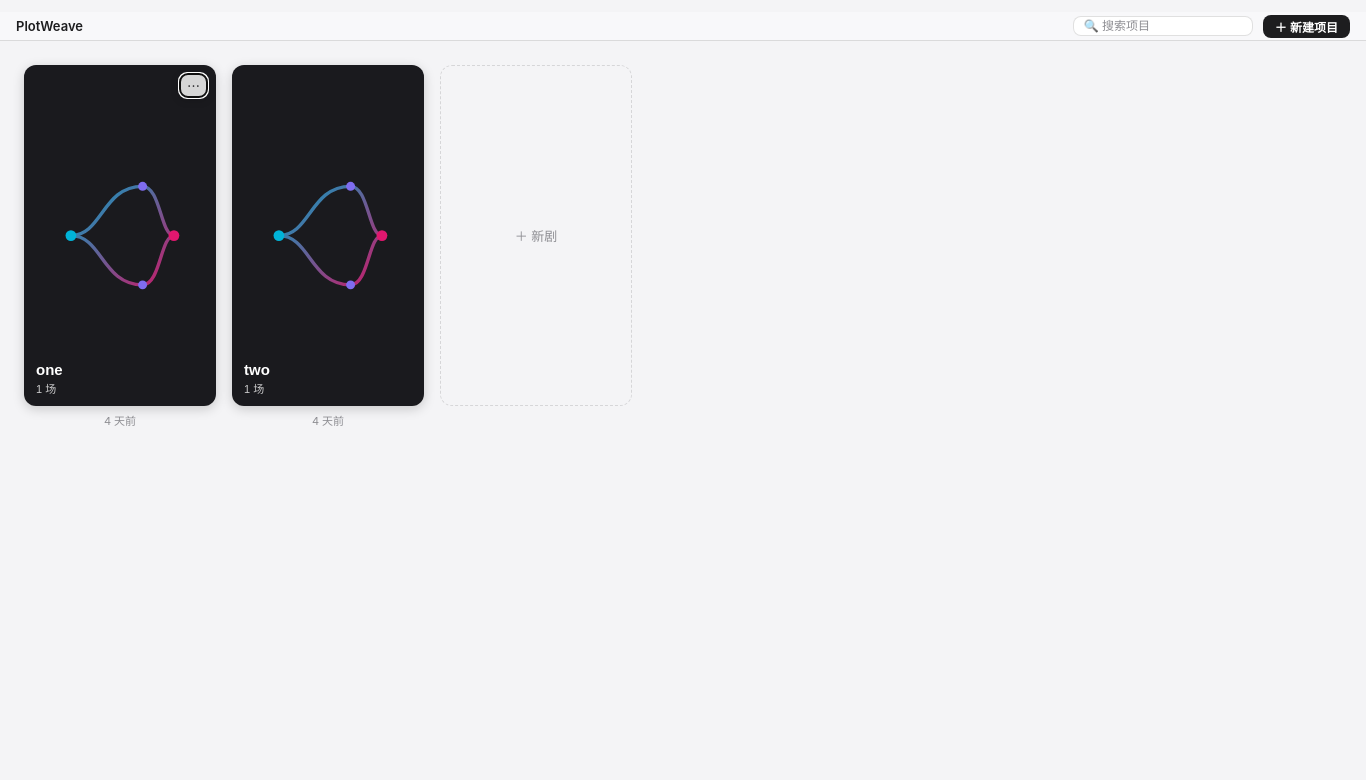
Test: pointer contextmenu preserves coordinates and focus
Right-click the button with aria-label "打开项目 one" at (120, 236), box [24,65,216,406]
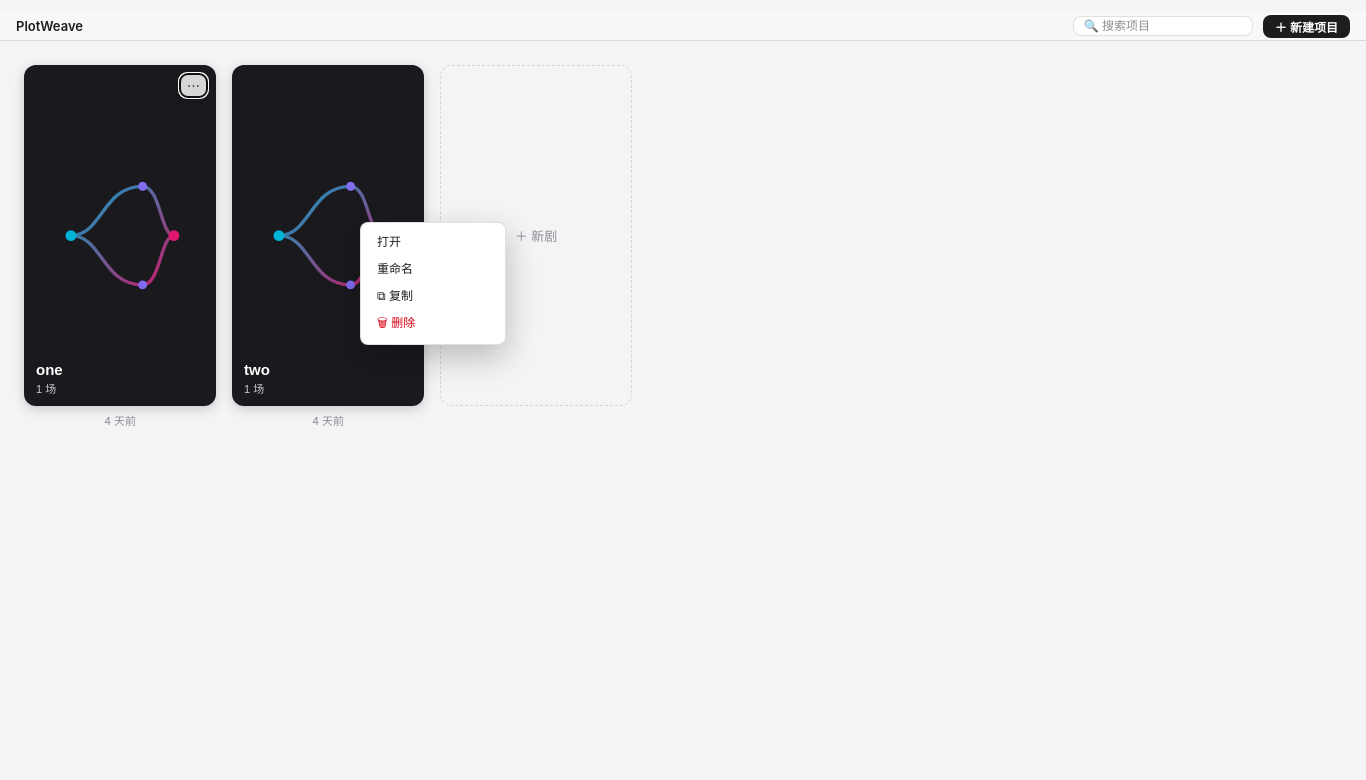
Press the mouse on the element that starts with "PlotWeave" at (683, 396), box [0,12,1365,779]
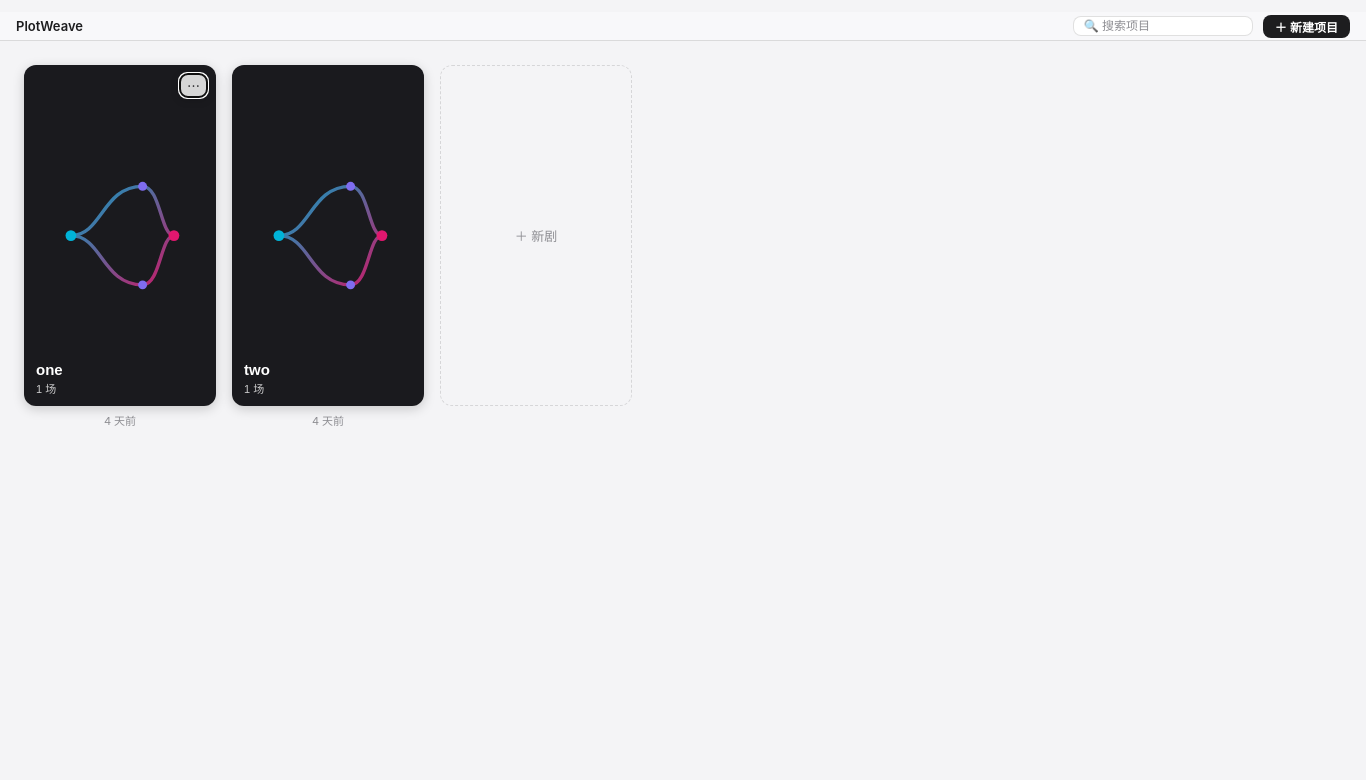
Now the menu is gone
